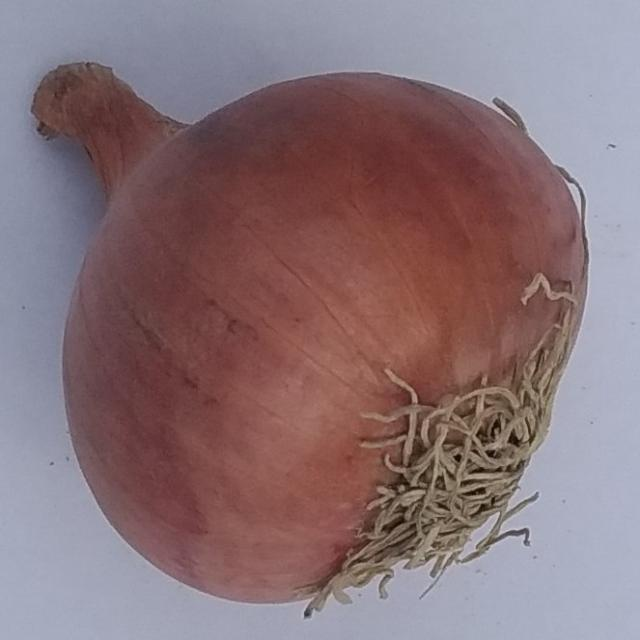onion: (26, 61, 594, 619)
